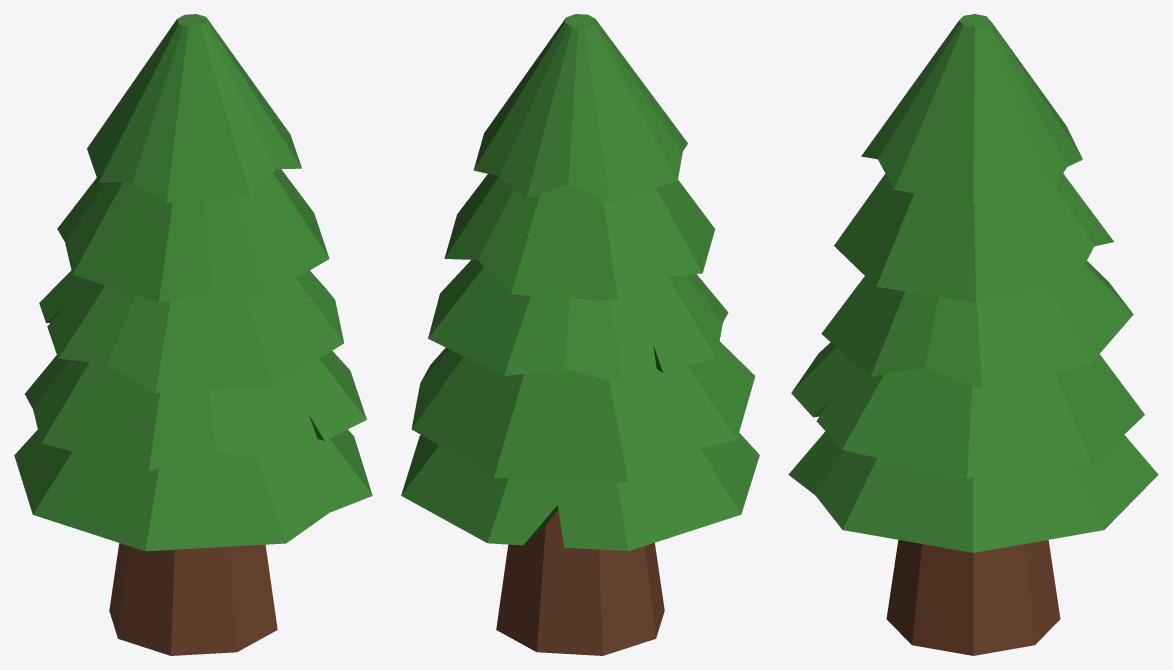
The model's file is tree2.glb.
3 views of the same model, side by side, from view 1: azimuth 30°, elevation 25°; view 2: azimuth 150°, elevation 25°; view 3: azimuth 270°, elevation 25° (orthographic).
Parts seen in each view (by area): view 1: Cylinder.001, Cylinder.003, Cylinder.002, Cylinder.004, Cylinder.005, Cylinder; view 2: Cylinder.002, Cylinder.005, Cylinder.004, Cylinder.001, Cylinder.003, Cylinder; view 3: Cylinder.002, Cylinder.001, Cylinder.005, Cylinder.004, Cylinder.003, Cylinder.
Boxes of the visible parts, <box> form: Cylinder.001: <box>14,429,372,551</box>; Cylinder.003: <box>39,270,343,393</box>; Cylinder.002: <box>25,351,366,471</box>; Cylinder.004: <box>57,169,329,302</box>; Cylinder.005: <box>87,14,301,202</box>; Cylinder: <box>109,543,277,655</box>; Cylinder.002: <box>411,341,755,482</box>; Cylinder.005: <box>473,14,687,203</box>; Cylinder.004: <box>444,174,715,300</box>; Cylinder.001: <box>401,432,759,551</box>; Cylinder.003: <box>428,260,728,383</box>; Cylinder: <box>496,510,664,655</box>; Cylinder.002: <box>791,342,1144,479</box>; Cylinder.001: <box>788,431,1158,552</box>; Cylinder.005: <box>861,14,1082,204</box>; Cylinder.004: <box>834,173,1113,302</box>; Cylinder.003: <box>821,261,1133,389</box>; Cylinder: <box>886,540,1060,655</box>.
Bounding box in the file's own units: 4.26 × 7.59 × 4.26.
